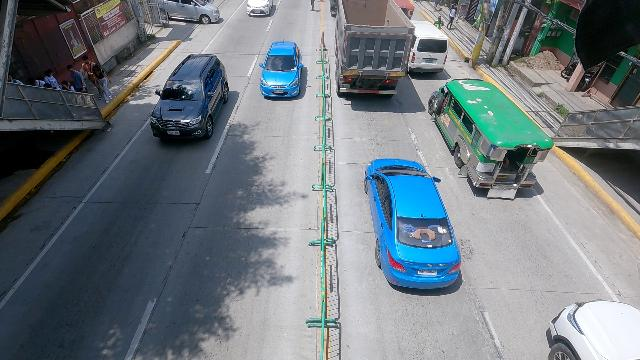car: (360, 154, 467, 299), (142, 51, 233, 150), (546, 299, 640, 359), (259, 40, 304, 104), (155, 0, 221, 24), (246, 0, 272, 17)
jeepney: (427, 81, 553, 202)
truck: (329, 0, 414, 104)
van: (408, 18, 451, 76)
